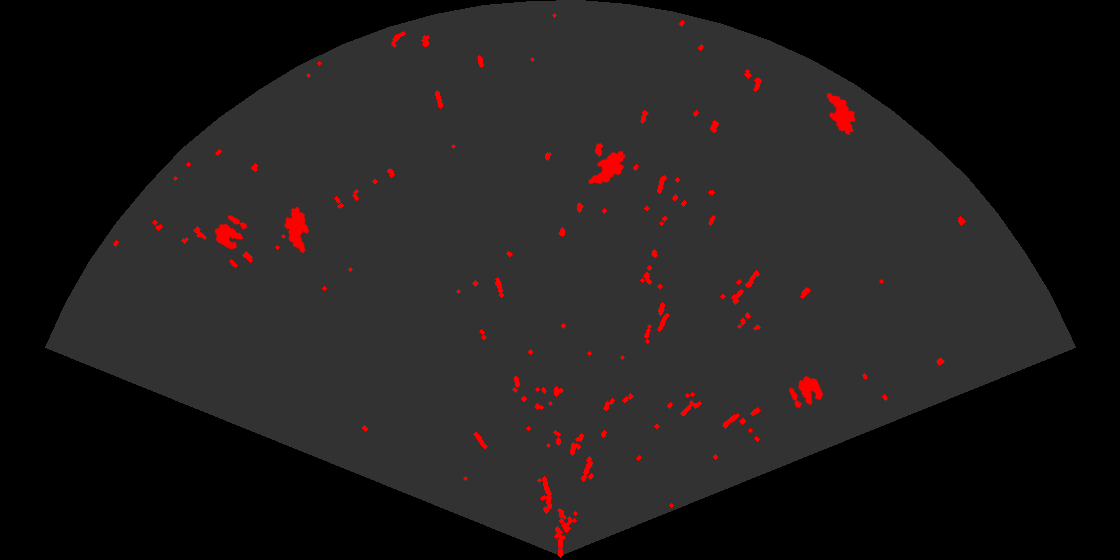AUV: (587, 149, 627, 186), (825, 91, 857, 137), (283, 205, 311, 255)
ball: (213, 213, 249, 251), (787, 374, 825, 410)
